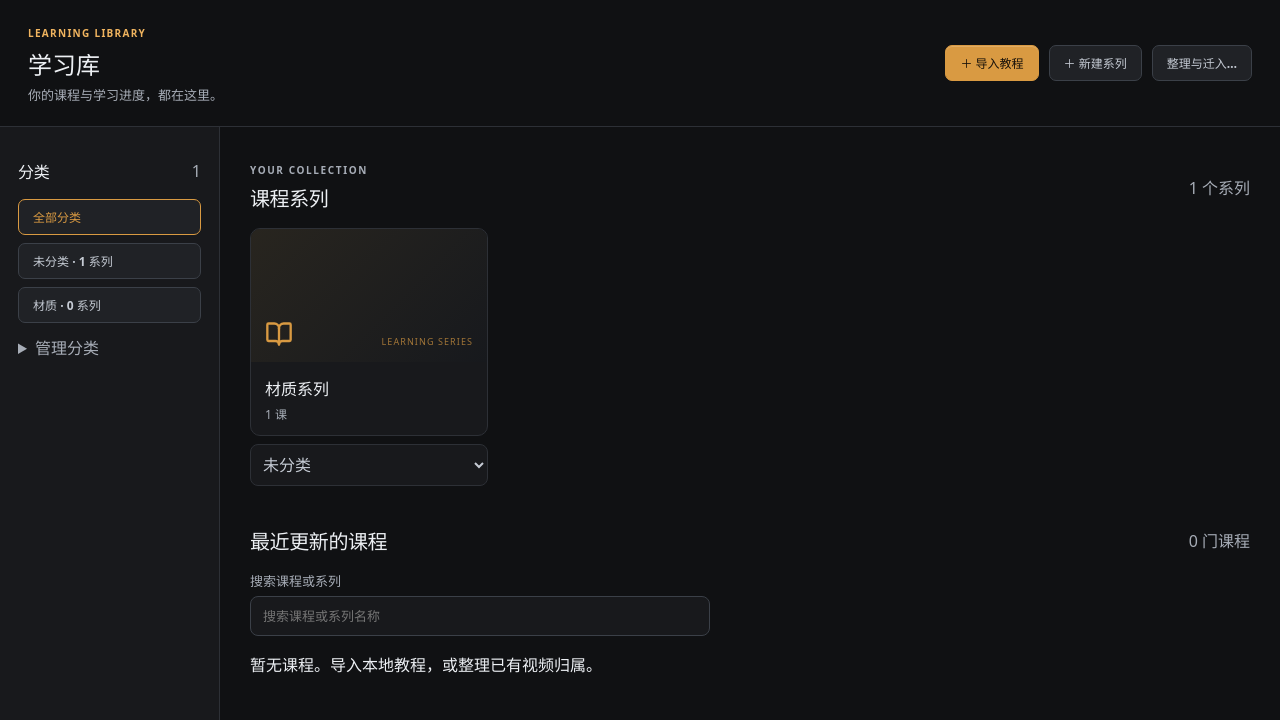
Test case: reloads series after an assignment so an overlapping refresh cannot restore stale data
Select "材质" in the dropdown named "材质系列的分类" at [369, 465], box [250,444,488,486]
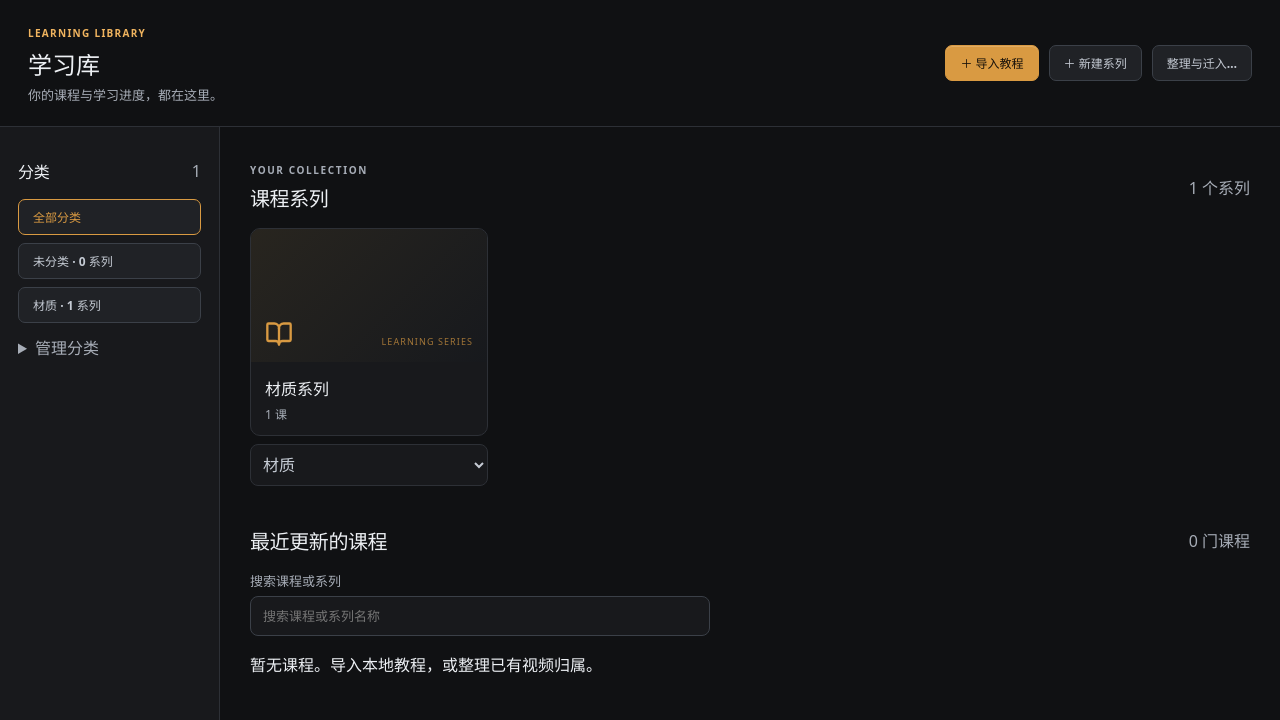
expect the button "材质 · 1 系列" is shown: met, box [18,287,201,323]
